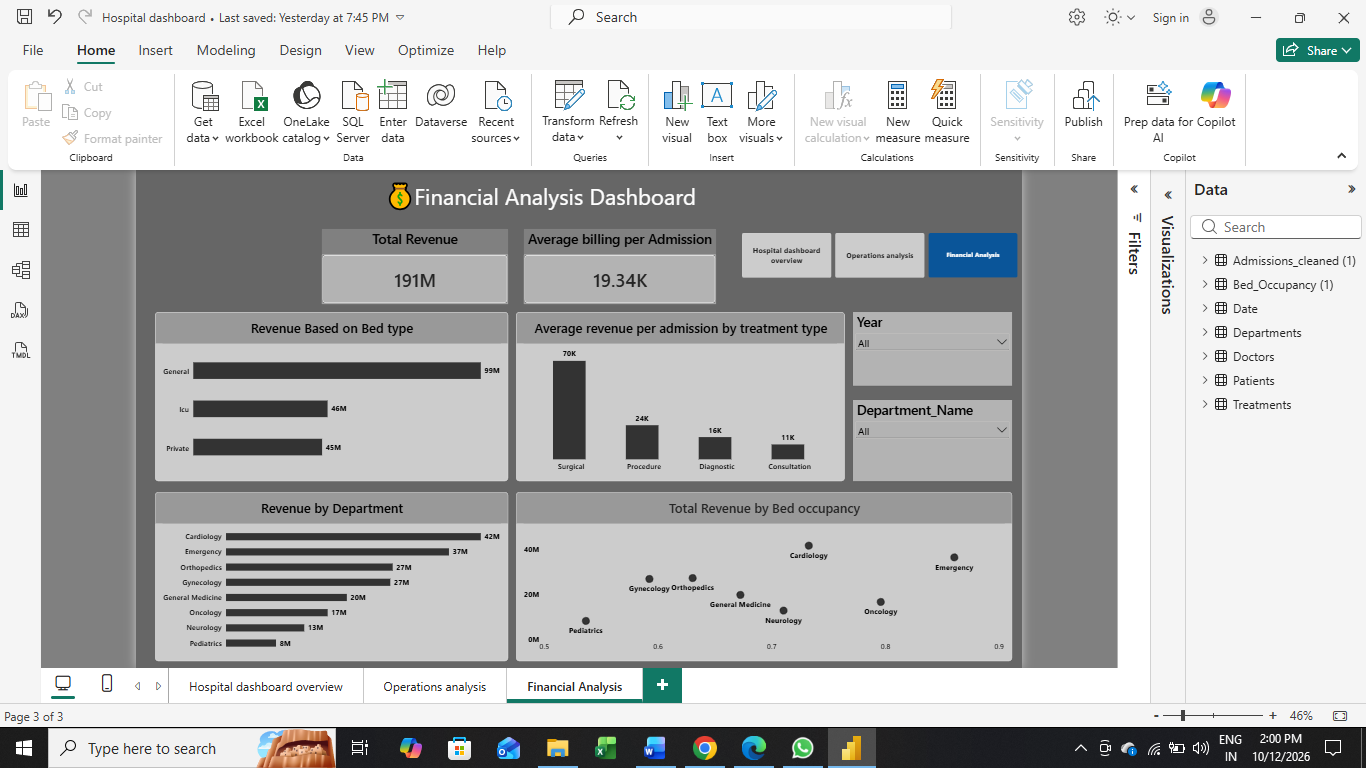

This screenshot's page, from the dashboard's own definition file:
{"tool":"powerbi","page":{"name":"Financial Analysis","canvas":[1920,1080],"ordinal":2},"visuals":[{"type":"cardVisual","title":"Total Revenue ","fields":{"Data":["Admissions_cleaned (1).Total Revenue"]},"box":[403.4,128,403.4,162.7],"z":0},{"type":"cardVisual","title":"Average billing per Admission ","fields":{"Data":["Admissions_cleaned (1).AvgBillingPerAdmission"]},"box":[841.4,128,416.4,162.7],"z":1000},{"type":"barChart","title":"Revenue by Department ","fields":{"Category":["Departments.Department_Name"],"Y":["Admissions_cleaned (1).Total Revenue"]},"box":[41.2,698.3,765.5,366.5],"z":2000},{"type":"barChart","title":"Revenue Based on Bed type ","fields":{"Category":["Admissions_cleaned (1).Bed_Type"],"Y":["Admissions_cleaned (1).Total Revenue"]},"box":[41.2,308,765.5,366.5],"z":3000},{"type":"clusteredColumnChart","title":"Average revenue per admission by treatment type","fields":{"Category":["Treatments.Treatment_Type"],"Y":["Admissions_cleaned (1).Avg Revenue per Admission"]},"box":[824.1,308,713.5,366.5],"z":4000},{"type":"scatterChart","title":"Total Revenue by Bed occupancy","fields":{"Category":["Departments.Department_Name"],"X":["Admissions_cleaned (1).Bed_occupancy %"],"Y":["Admissions_cleaned (1).Total Revenue"]},"box":[824.1,698.3,1075.7,366.5],"z":5000},{"type":"textbox","box":[125.8,17.3,1489.9,73.7],"z":6000},{"type":"slicer","fields":{"Values":["Date.Year"]},"box":[1554.9,308,344.8,160.5],"z":7000},{"type":"slicer","fields":{"Values":["Departments.Department_Name"]},"box":[1554.9,498.8,344.8,175.7],"z":8000},{"type":"pageNavigator","box":[1314.2,136.6,600.7,97.6],"z":9000}]}

Visuals, with their boxes on the page's 1920x1080 design canvas (x1, y1, x2, y2). These are canvas units, not pixel positions in the 1366x768 screenshot, which may show the page scaled, cropped or inside an application window:
"Total Revenue " cardVisual: [left=403, top=128, right=807, bottom=291]
"Average billing per Admission " cardVisual: [left=841, top=128, right=1258, bottom=291]
"Revenue by Department " barChart: [left=41, top=698, right=807, bottom=1065]
"Revenue Based on Bed type " barChart: [left=41, top=308, right=807, bottom=674]
"Average revenue per admission by treatment type" clusteredColumnChart: [left=824, top=308, right=1538, bottom=674]
"Total Revenue by Bed occupancy" scatterChart: [left=824, top=698, right=1900, bottom=1065]
textbox: [left=126, top=17, right=1616, bottom=91]
slicer - Date.Year: [left=1555, top=308, right=1900, bottom=468]
slicer - Departments.Department_Name: [left=1555, top=499, right=1900, bottom=674]
pageNavigator: [left=1314, top=137, right=1915, bottom=234]
